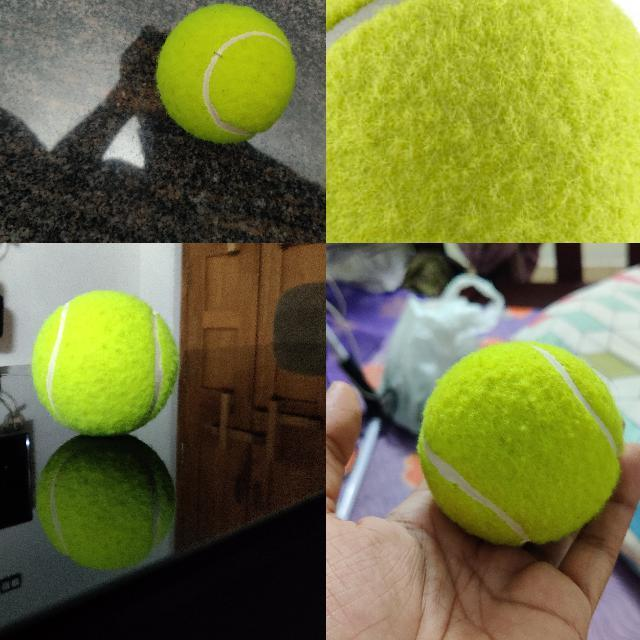tennis-ball: (326, 0, 639, 242), (415, 340, 625, 546), (31, 289, 179, 435), (155, 3, 296, 143)
